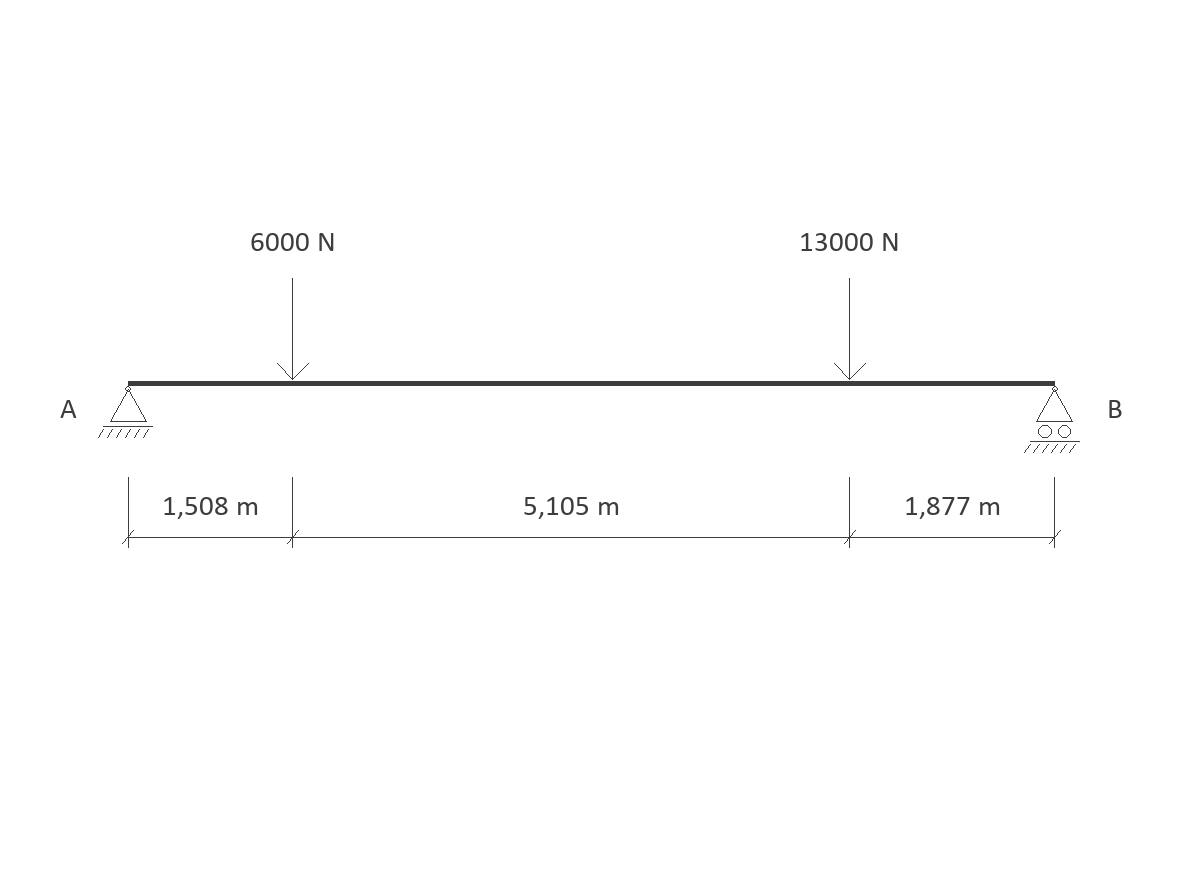pin_support: (98, 386, 153, 438)
point_load: (277, 278, 309, 380), (834, 278, 866, 380)
roller_support: (1024, 386, 1080, 453)
